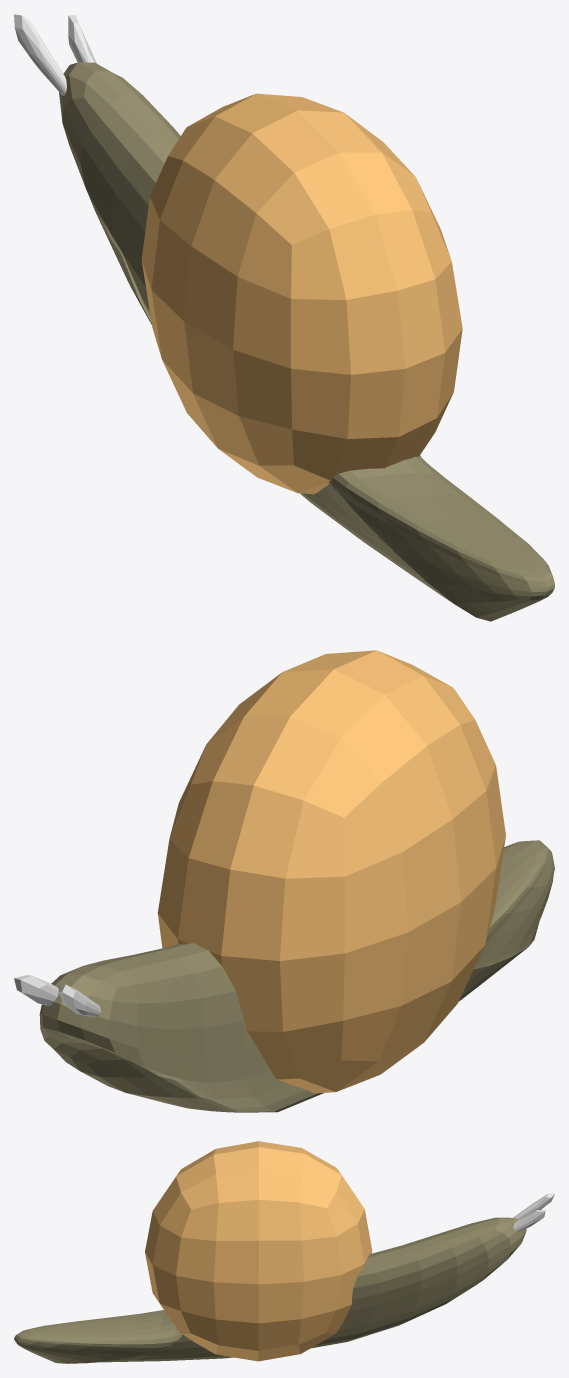
File: Snail.low poly.fbx
3 views of the same model, one above another, from view 1: azimuth 30°, elevation 25°; view 2: azimuth 150°, elevation 25°; view 3: azimuth 270°, elevation 25° (orthographic). The views are drawn at different scales.
Visible parts, largest first — view 1: Cube.001, Cube, Cube.002, Cube.003; view 2: Cube.001, Cube, Cube.003, Cube.002; view 3: Cube.001, Cube, Cube.003, Cube.002.
Part boxes in pixels (x1,y1,x2,y2): Cube.001: (141,93,462,494); Cube: (59,62,554,621); Cube.002: (14,14,66,95); Cube.003: (68,15,96,63); Cube.001: (157,650,505,1093); Cube: (39,840,554,1112); Cube.003: (14,975,58,1005); Cube.002: (58,984,101,1017); Cube.001: (145,1141,372,1361); Cube: (14,1217,526,1363); Cube.003: (423,1210,545,1285); Cube.002: (513,1193,554,1219).
Bounding box in the file's own units: 163 × 252 × 584.
